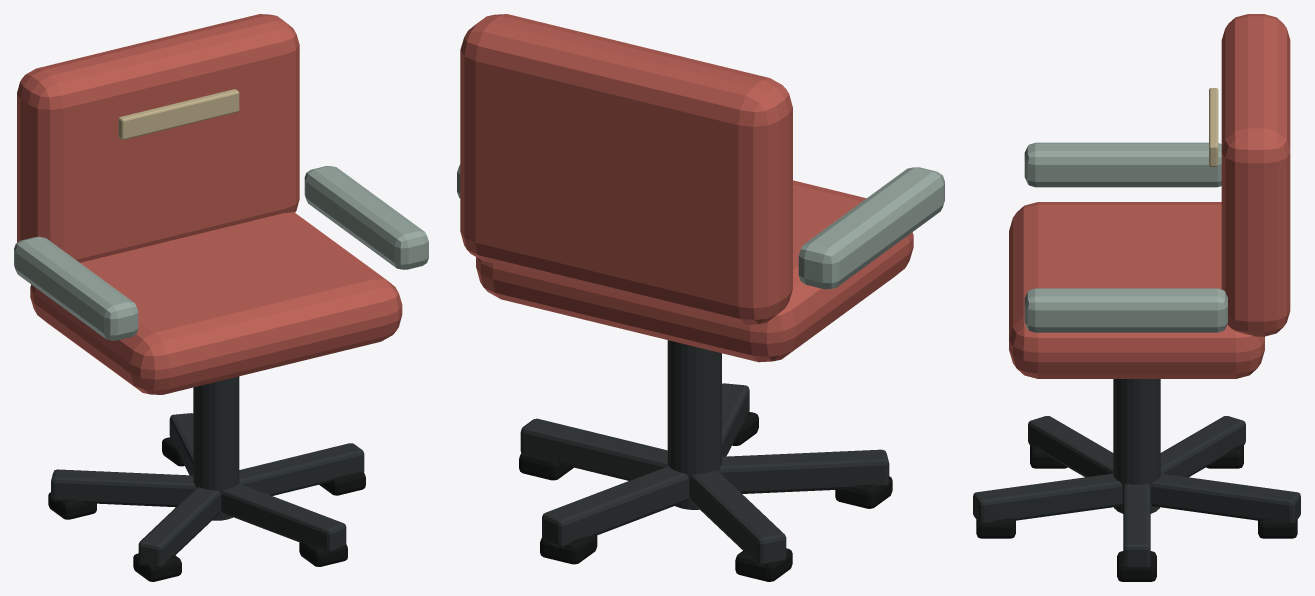
File: 06_chair_set_padded_polymer_swivel.glb
3 renders of one model, left to right at view 1: azimuth 30°, elevation 25°; view 2: azimuth 150°, elevation 25°; view 3: azimuth 270°, elevation 25°, orthographic. The views are drawn at different scales.
Visible parts, largest first — view 1: CHAIR_C_Padded_Polymer_Back, CHAIR_C_Padded_Polymer_Seat, CHAIR_C_Side_Left_Armrest, CHAIR_C_Side_Right_Armrest, CHAIR_C_Central_Swivel_Column, CHAIR_C_Five_Star_Foot_2, CHAIR_C_Five_Star_Foot_4, CHAIR_C_Five_Star_Foot_0, CHAIR_C_Five_Star_Foot_3, CHAIR_C_Rear_Neutral_Trim_Plate, CHAIR_C_Five_Star_Foot_1, CHAIR_C_Rubber_Glide_3 (+3 smaller); view 2: CHAIR_C_Padded_Polymer_Back, CHAIR_C_Padded_Polymer_Seat, CHAIR_C_Side_Left_Armrest, CHAIR_C_Central_Swivel_Column, CHAIR_C_Five_Star_Foot_3, CHAIR_C_Five_Star_Foot_1, CHAIR_C_Five_Star_Foot_0, CHAIR_C_Five_Star_Foot_2, CHAIR_C_Five_Star_Foot_4, CHAIR_C_Rubber_Glide_2, CHAIR_C_Rubber_Glide_1, CHAIR_C_Rubber_Glide_3 (+1 smaller); view 3: CHAIR_C_Padded_Polymer_Seat, CHAIR_C_Padded_Polymer_Back, CHAIR_C_Side_Right_Armrest, CHAIR_C_Side_Left_Armrest, CHAIR_C_Central_Swivel_Column, CHAIR_C_Five_Star_Foot_1, CHAIR_C_Five_Star_Foot_4, CHAIR_C_Five_Star_Foot_2, CHAIR_C_Five_Star_Foot_3, CHAIR_C_Five_Star_Foot_0, CHAIR_C_Rear_Neutral_Trim_Plate, CHAIR_C_Rubber_Glide_0 (+4 smaller).
Boxes of the visible parts, x1,y1,x2,y2 form: CHAIR_C_Padded_Polymer_Back: (17,14,299,262); CHAIR_C_Padded_Polymer_Seat: (30,212,402,394); CHAIR_C_Side_Left_Armrest: (14,236,138,340); CHAIR_C_Side_Right_Armrest: (304,166,428,269); CHAIR_C_Central_Swivel_Column: (193,376,239,520); CHAIR_C_Five_Star_Foot_2: (51,469,195,507); CHAIR_C_Five_Star_Foot_4: (221,483,346,553); CHAIR_C_Five_Star_Foot_0: (239,443,364,495); CHAIR_C_Five_Star_Foot_3: (138,487,220,568); CHAIR_C_Rear_Neutral_Trim_Plate: (118,89,239,139); CHAIR_C_Five_Star_Foot_1: (169,413,193,475); CHAIR_C_Rubber_Glide_3: (133,553,181,581); CHAIR_C_Padded_Polymer_Back: (460,14,792,324); CHAIR_C_Padded_Polymer_Seat: (476,180,913,362); CHAIR_C_Side_Left_Armrest: (798,167,944,289); CHAIR_C_Central_Swivel_Column: (667,340,721,509); CHAIR_C_Five_Star_Foot_3: (718,449,889,493); CHAIR_C_Five_Star_Foot_1: (542,466,688,548); CHAIR_C_Five_Star_Foot_0: (520,418,667,480); CHAIR_C_Five_Star_Foot_2: (689,470,786,566); CHAIR_C_Five_Star_Foot_4: (722,383,749,456); CHAIR_C_Rubber_Glide_2: (735,548,792,581); CHAIR_C_Rubber_Glide_1: (540,534,597,564); CHAIR_C_Rubber_Glide_3: (835,476,892,508); CHAIR_C_Padded_Polymer_Seat: (1009,202,1264,378); CHAIR_C_Padded_Polymer_Back: (1221,14,1290,336); CHAIR_C_Side_Right_Armrest: (1024,288,1227,332); CHAIR_C_Side_Left_Armrest: (1024,142,1221,187); CHAIR_C_Central_Swivel_Column: (1113,379,1160,513); CHAIR_C_Five_Star_Foot_1: (1151,473,1300,523); CHAIR_C_Five_Star_Foot_4: (973,473,1122,523); CHAIR_C_Five_Star_Foot_2: (1160,416,1245,477); CHAIR_C_Five_Star_Foot_3: (1028,416,1113,477); CHAIR_C_Five_Star_Foot_0: (1123,484,1150,569); CHAIR_C_Rear_Neutral_Trim_Plate: (1209,88,1218,166); CHAIR_C_Rubber_Glide_0: (1117,551,1156,581).
Bounding box in the file's own units: 0.725 × 0.919 × 0.6198.
